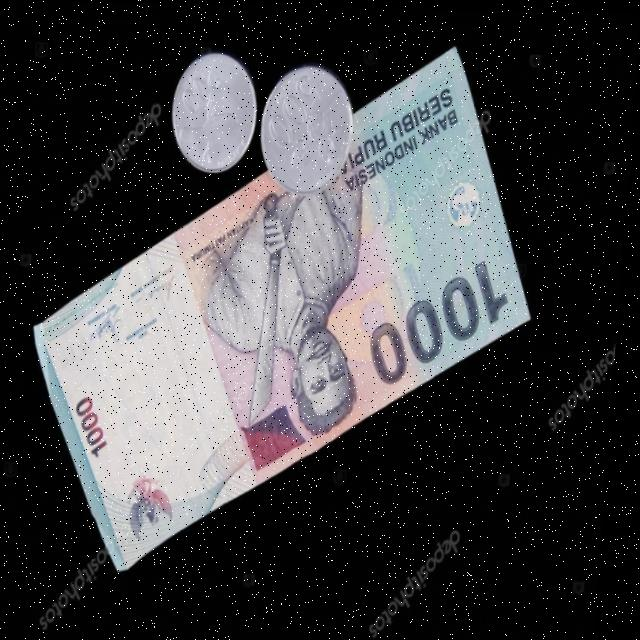1000IndonesianRupiah: (34, 142, 549, 573)
